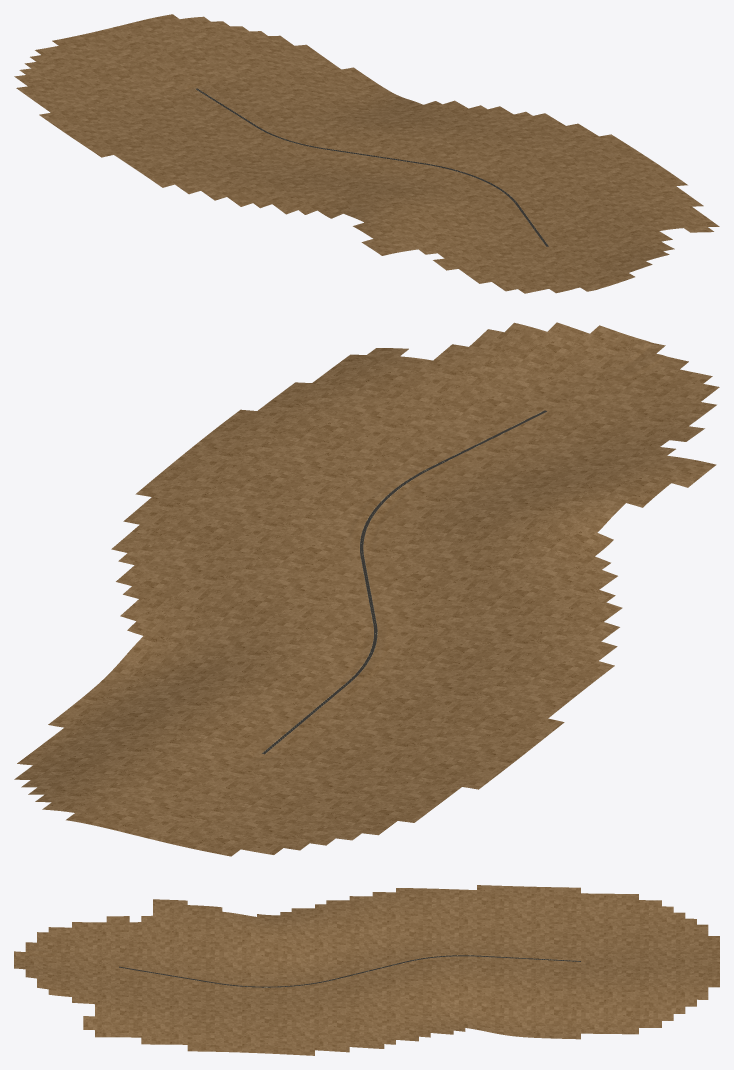
3 renders of one model, top to bottom at view 1: azimuth 30°, elevation 25°; view 2: azimuth 150°, elevation 25°; view 3: azimuth 270°, elevation 25°, orthographic. The views are drawn at different scales.
Parts seen in each view (by area): view 1: S01_TERRAIN_LOD1_WEB_EXPORT, S01_ROAD_ASPHALT_LOD1_WEB_EXPORT; view 2: S01_TERRAIN_LOD1_WEB_EXPORT, S01_ROAD_ASPHALT_LOD1_WEB_EXPORT; view 3: S01_TERRAIN_LOD1_WEB_EXPORT, S01_ROAD_ASPHALT_LOD1_WEB_EXPORT.
Part boxes in pixels (x1=…): S01_TERRAIN_LOD1_WEB_EXPORT: x1=14, y1=14, x2=719, y2=293; S01_ROAD_ASPHALT_LOD1_WEB_EXPORT: x1=196, y1=88, x2=548, y2=246; S01_TERRAIN_LOD1_WEB_EXPORT: x1=14, y1=322, x2=719, y2=856; S01_ROAD_ASPHALT_LOD1_WEB_EXPORT: x1=262, y1=410, x2=546, y2=754; S01_TERRAIN_LOD1_WEB_EXPORT: x1=14, y1=885, x2=719, y2=1055; S01_ROAD_ASPHALT_LOD1_WEB_EXPORT: x1=119, y1=955, x2=580, y2=987.
Size of the model in its own units: 1360 by 181 by 2440.
Materials: 6 (6 with a texture image).
